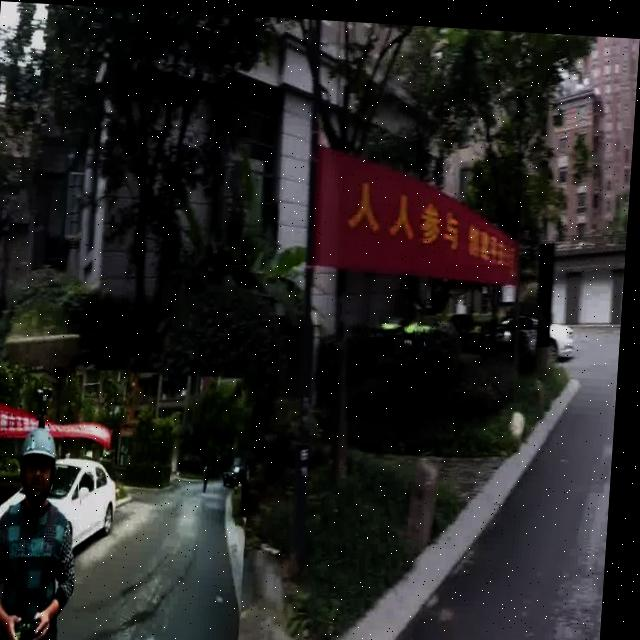drone: (369, 284, 459, 356)
